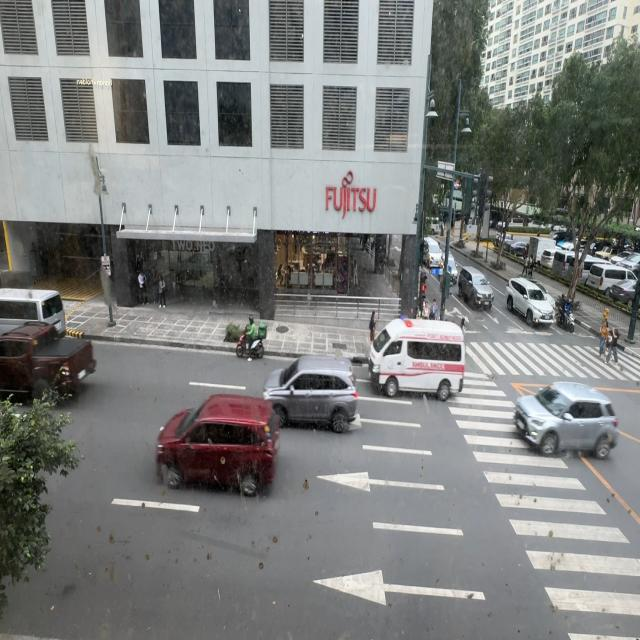crossing: (608, 320, 618, 375), (599, 310, 610, 358), (430, 299, 439, 320)
pedestrain: (138, 270, 148, 305), (151, 271, 160, 305), (158, 274, 167, 308), (369, 311, 377, 345)
